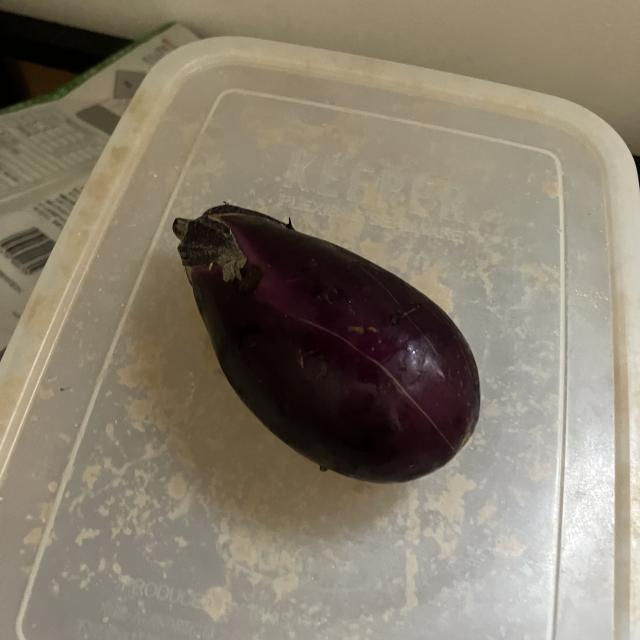eggplant: (167, 202, 484, 491)
